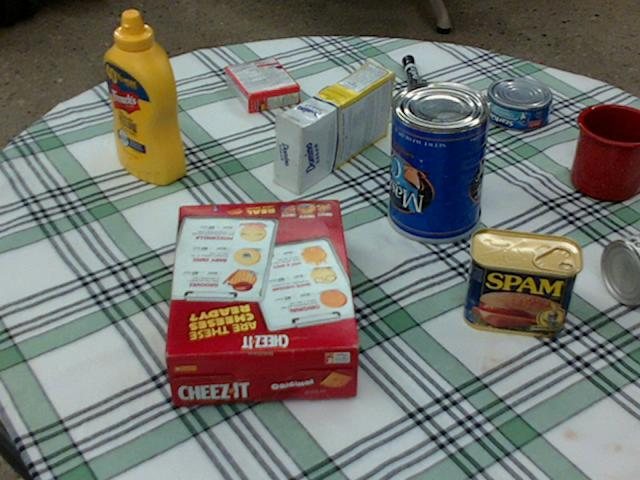cracker_box: (164, 200, 360, 406)
gelatin_box: (225, 58, 299, 112)
large_marker: (402, 54, 425, 105)
master_chef_can: (386, 80, 493, 241)
mug: (571, 105, 639, 201)
mustard_bottle: (104, 10, 184, 183)
potted_meat_can: (463, 228, 581, 335)
sugar_box: (274, 61, 393, 194)
tomato_soup_can: (602, 233, 639, 303)
tuna_fish_can: (485, 77, 552, 130)
